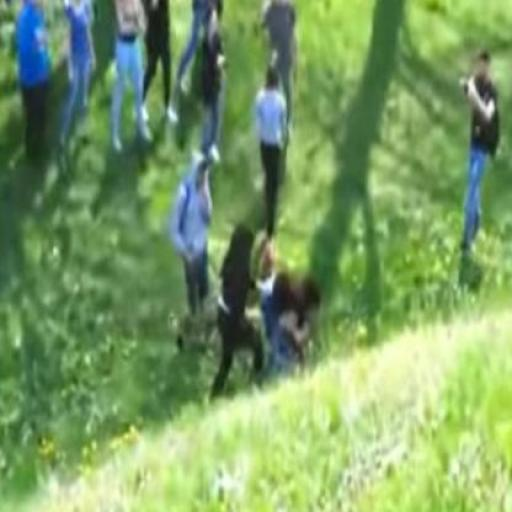Fighting: (209, 221, 325, 393)
